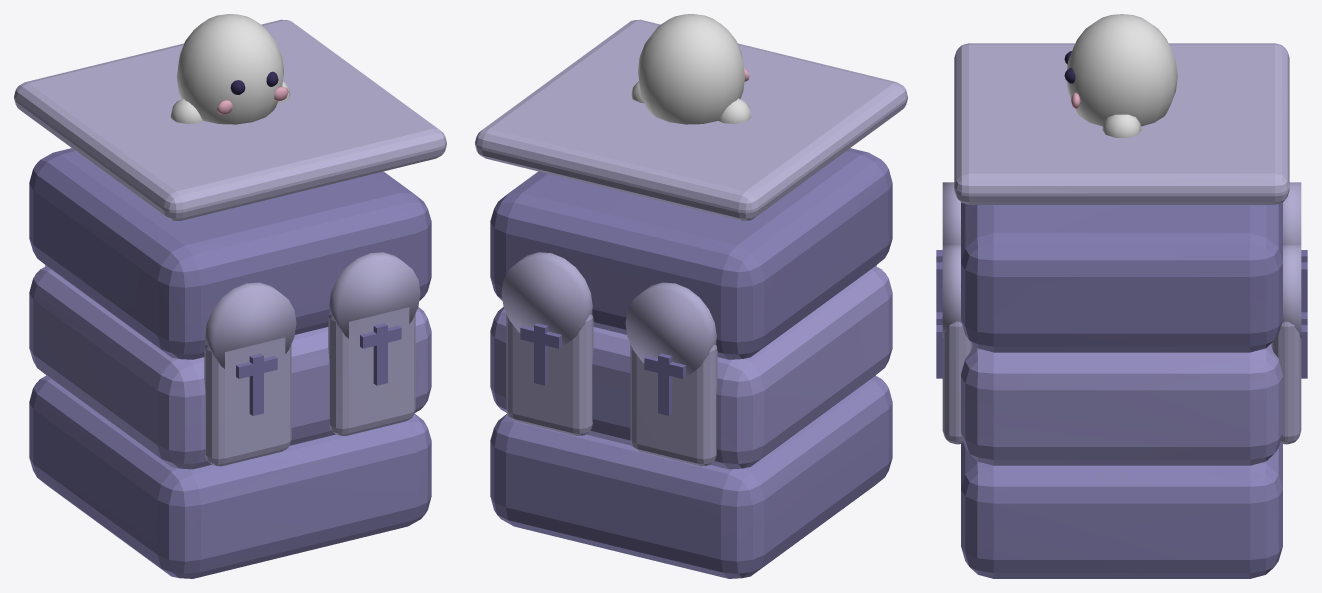
Rendered from gym_wall_ghost_lite.glb.
3 views of the same model, side by side, from view 1: azimuth 30°, elevation 25°; view 2: azimuth 150°, elevation 25°; view 3: azimuth 270°, elevation 25° (orthographic). The views are drawn at different scales.
Visible parts, largest first — view 1: Cube; view 2: Cube; view 3: Cube.
Boxes of the visible parts, <box> form: Cube: <box>14,14,446,578</box>; Cube: <box>475,14,907,578</box>; Cube: <box>936,14,1307,578</box>.
Bounding box in the file's own units: 2.04 × 3.38 × 2.26.
